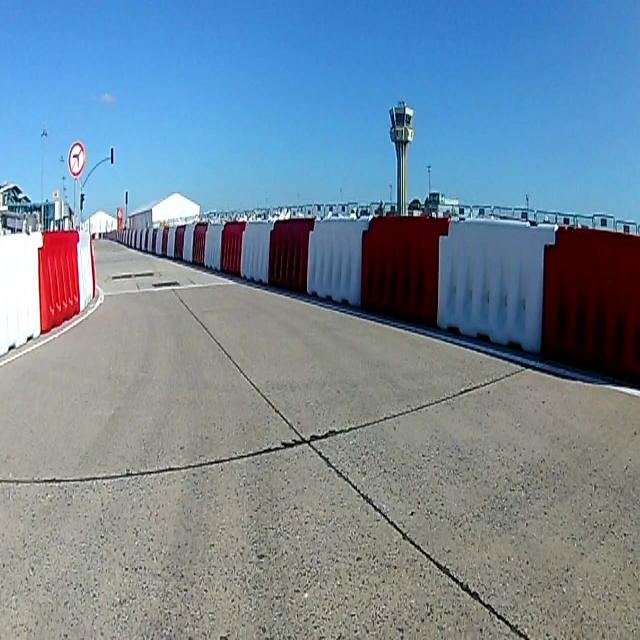soladonulmez: (68, 140, 86, 180)
